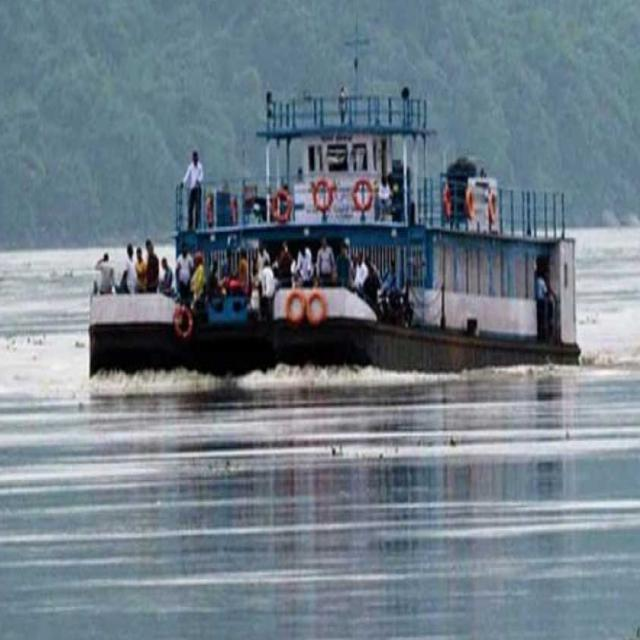houseboat: (87, 63, 599, 394)
